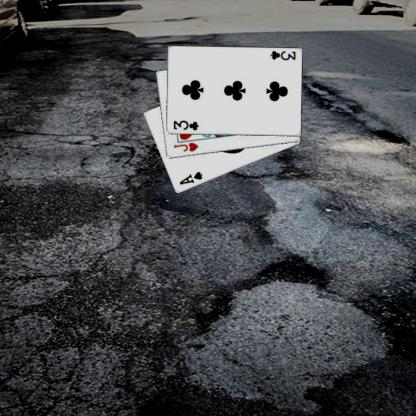3C: (170, 118, 199, 132), (268, 48, 296, 62)
AS: (176, 169, 204, 186)
JH: (171, 140, 199, 153)
